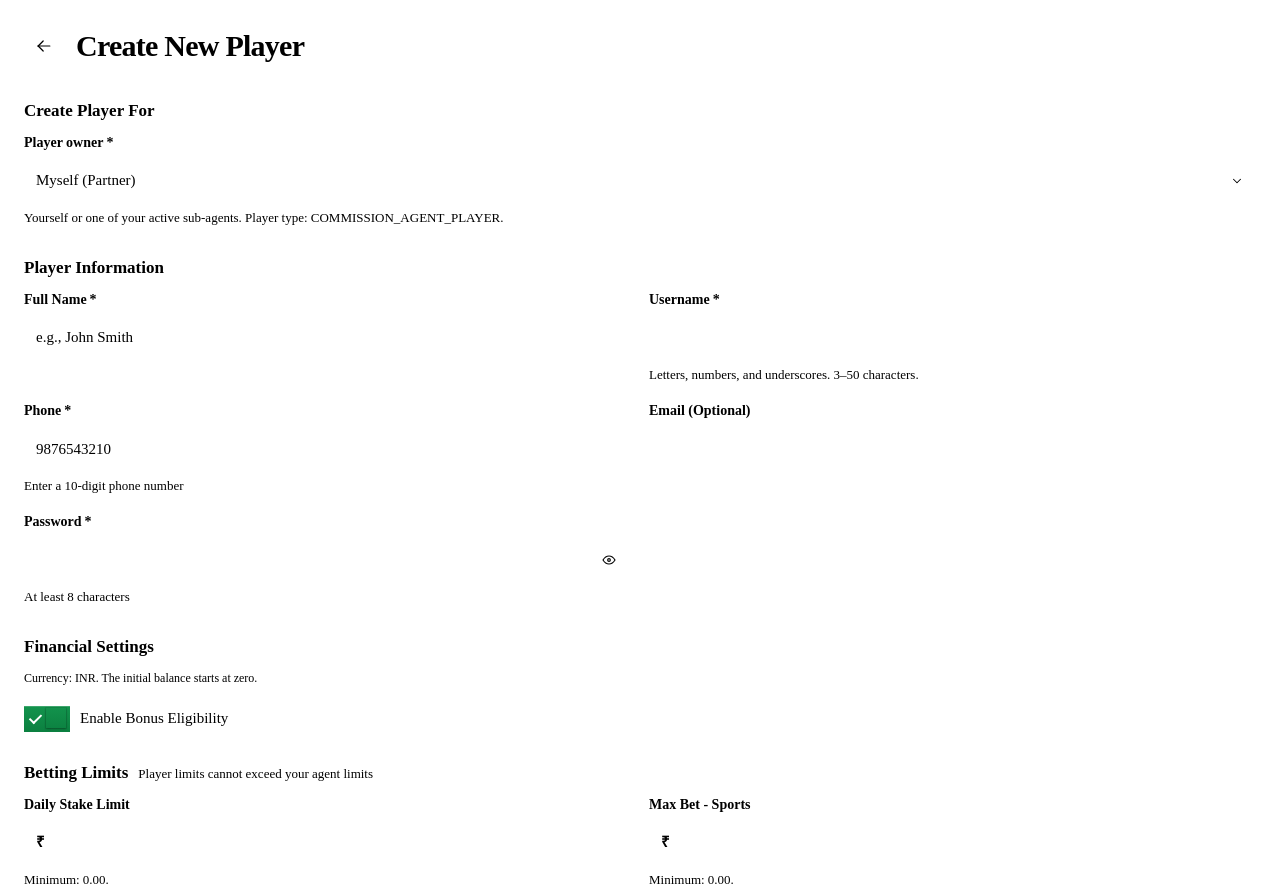
Test: complete Player Create workflow › phone is marked invalid only for a real phone error in agent mode
The image size is (1280, 896).
Earlier steps of the test are not shown.
Later steps or results of the test are not shown.
Replace the text in the field labelled "Phone" with "12" at (328, 449), box top-left (24, 427), bottom-right (631, 471)
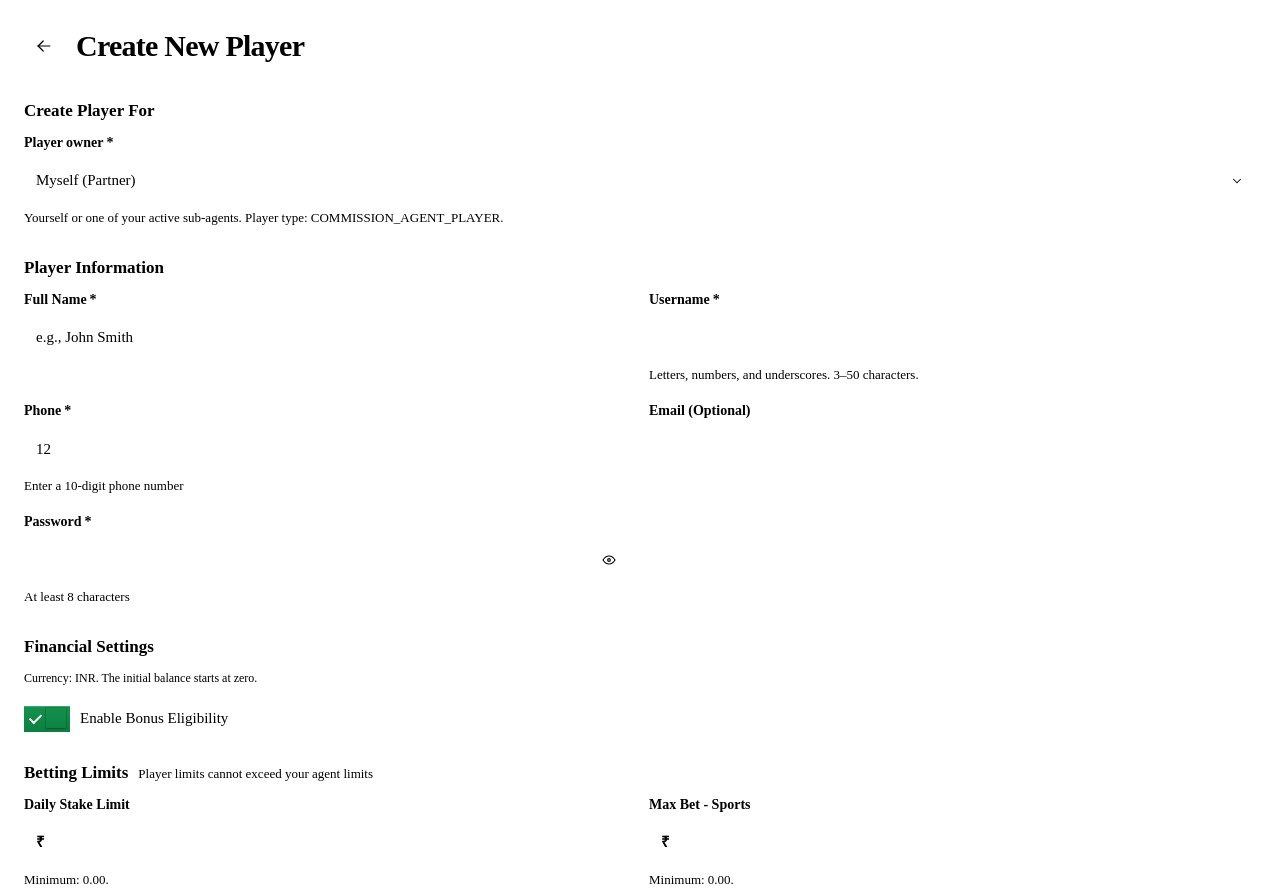
Leave the field labelled "Phone", box top-left (24, 427), bottom-right (631, 471)
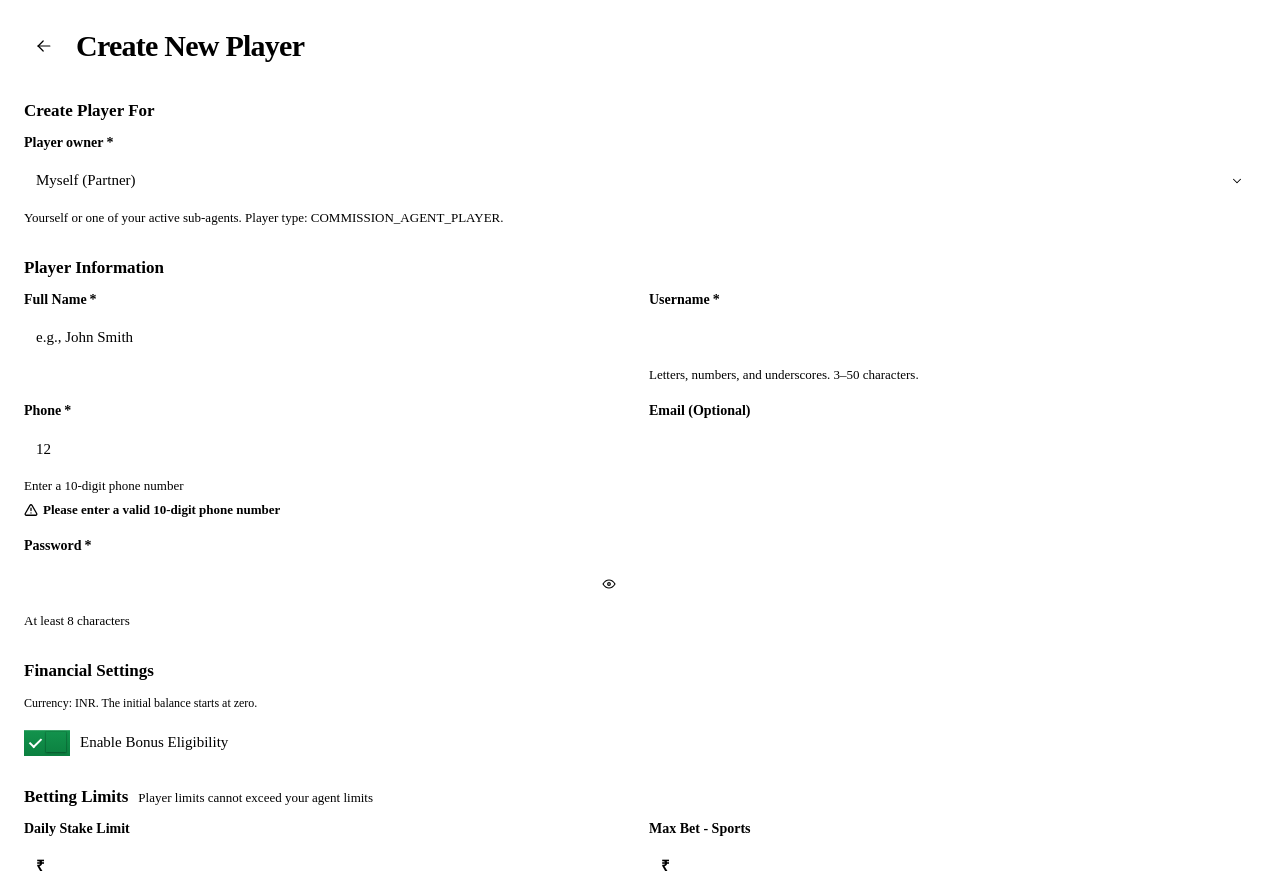
Check: the text "Please enter a valid 10-digit phone number" is shown, box top-left (43, 502), bottom-right (280, 517)
